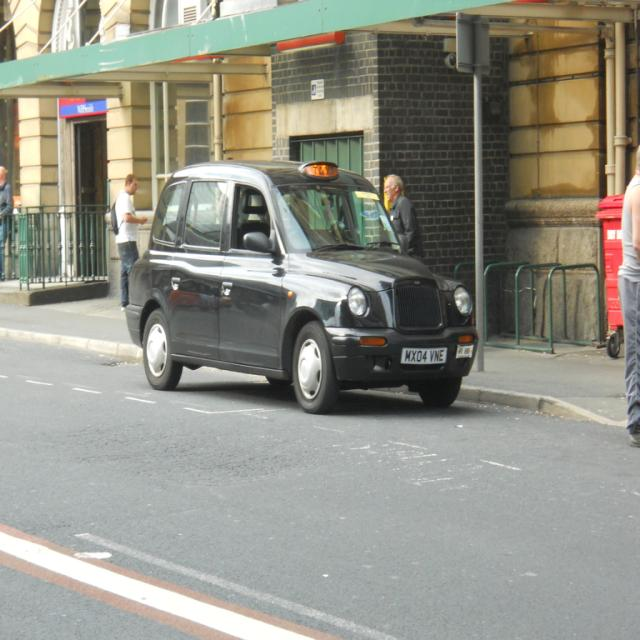car: (124, 158, 475, 413)
